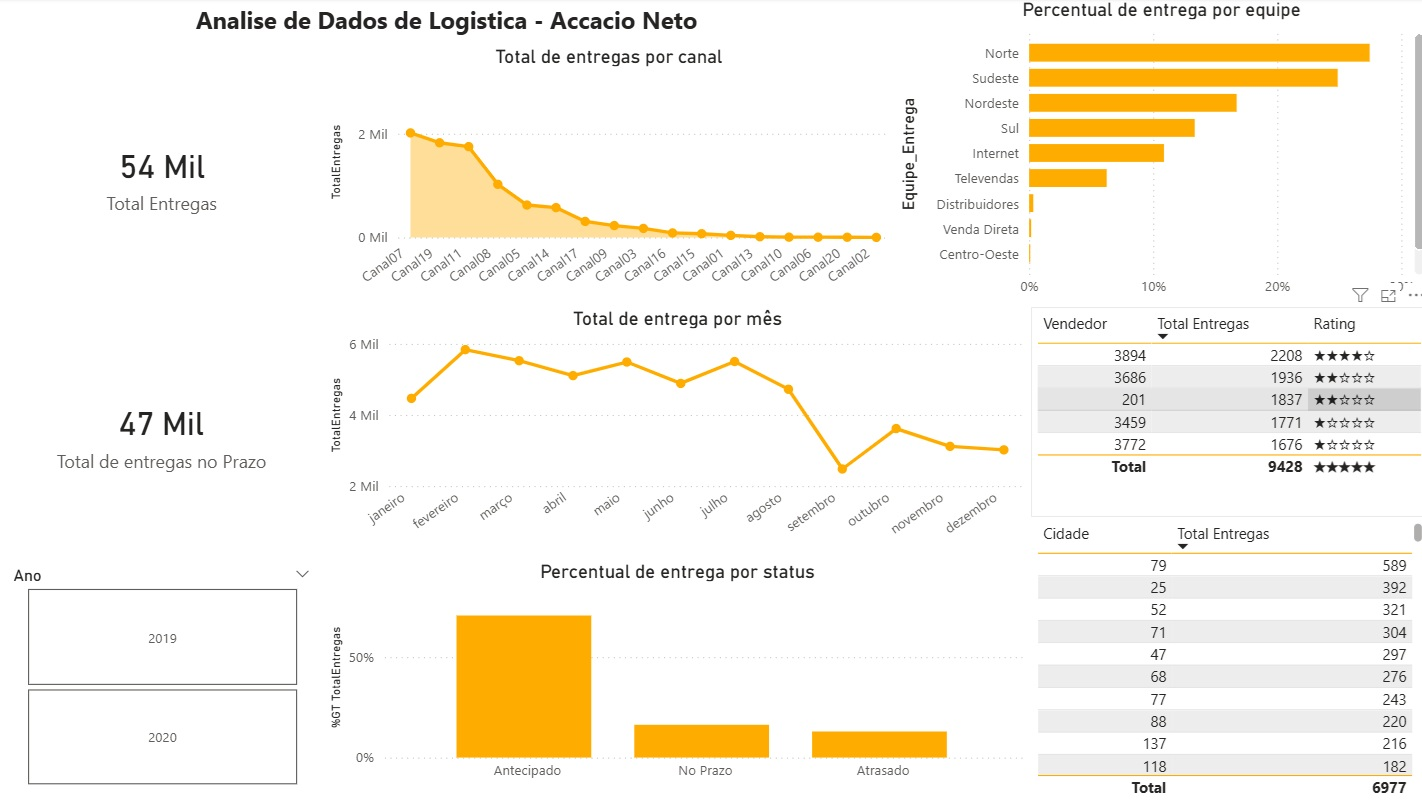

The dashboard page shown, as its layout file describes it:
{"tool":"powerbi","page":{"name":"Página 1","canvas":[1280,720],"ordinal":0},"visuals":[{"type":"areaChart","title":"Total de entregas por canal","fields":{"Category":["Logistica.Canal_Entrega"],"Y":["Medidas.TotalEntregas"]},"box":[291.5,42.1,510.1,234.8],"z":0},{"type":"clusteredBarChart","title":"Percentual de entrega por equipe","fields":{"Category":["Logistica.Equipe_Entrega"],"Y":["Medidas.TotalEntregas"]},"box":[801.5,0,479.3,276.9],"z":1000},{"type":"lineChart","title":"Total de entrega por mês","fields":{"Category":["Logistica.Data_Entrega_Realizada.Variation.Hierarquia de datas.Mês"],"Y":["Medidas.TotalEntregas"]},"box":[291.5,276.9,633.1,226.7],"z":2000},{"type":"tableEx","fields":{"Values":["Logistica.ID_Vendedor","Medidas.TotalEntregas","Medidas.Rating"]},"box":[924.6,276.9,356.2,187.8],"z":3000},{"type":"tableEx","fields":{"Values":["Logistica.ID_Cidade","Medidas.TotalEntregas"]},"box":[924.6,464.7,356.2,255.8],"z":4000},{"type":"columnChart","title":"Percentual de entrega por status","fields":{"Category":["Logistica.Status_Entrega"],"Y":["Medidas.TotalEntregas"]},"box":[291.5,503.6,633.1,207.3],"z":5000},{"type":"card","fields":{"Values":["Medidas.TotalEntregas"]},"box":[0,42.1,291.5,234.8],"z":6000},{"type":"card","fields":{"Values":["Medidas.TotalEntregasnoPrazo"]},"box":[0,277,291,227],"z":7000},{"type":"slicer","fields":{"Values":["Logistica.Data_Entrega_Realizada.Variation.Hierarquia de datas.Ano"]},"box":[0,504,291,207],"z":7001},{"type":"textbox","box":[0,0,801.5,42.1],"z":7002}]}

Visuals, with their boxes in screenshot pixels (x1, y1, x2, y2), scaled from the page's 1280x720 canvas onto the 1422x800 screenshot:
"Total de entregas por canal" areaChart: (324, 47, 891, 308)
"Percentual de entrega por equipe" clusteredBarChart: (890, 0, 1421, 308)
"Total de entrega por mês" lineChart: (324, 308, 1027, 560)
tableEx - Logistica.ID_Vendedor x Medidas.TotalEntregas: (1027, 308, 1421, 516)
tableEx - Logistica.ID_Cidade x Medidas.TotalEntregas: (1027, 516, 1421, 799)
"Percentual de entrega por status" columnChart: (324, 560, 1027, 790)
card - Medidas.TotalEntregas: (0, 47, 324, 308)
card - Medidas.TotalEntregasnoPrazo: (0, 308, 323, 560)
slicer - Logistica.Data_Entrega_Realizada.Variation.Hierarquia de datas.Ano: (0, 560, 323, 790)
textbox: (0, 0, 890, 47)
